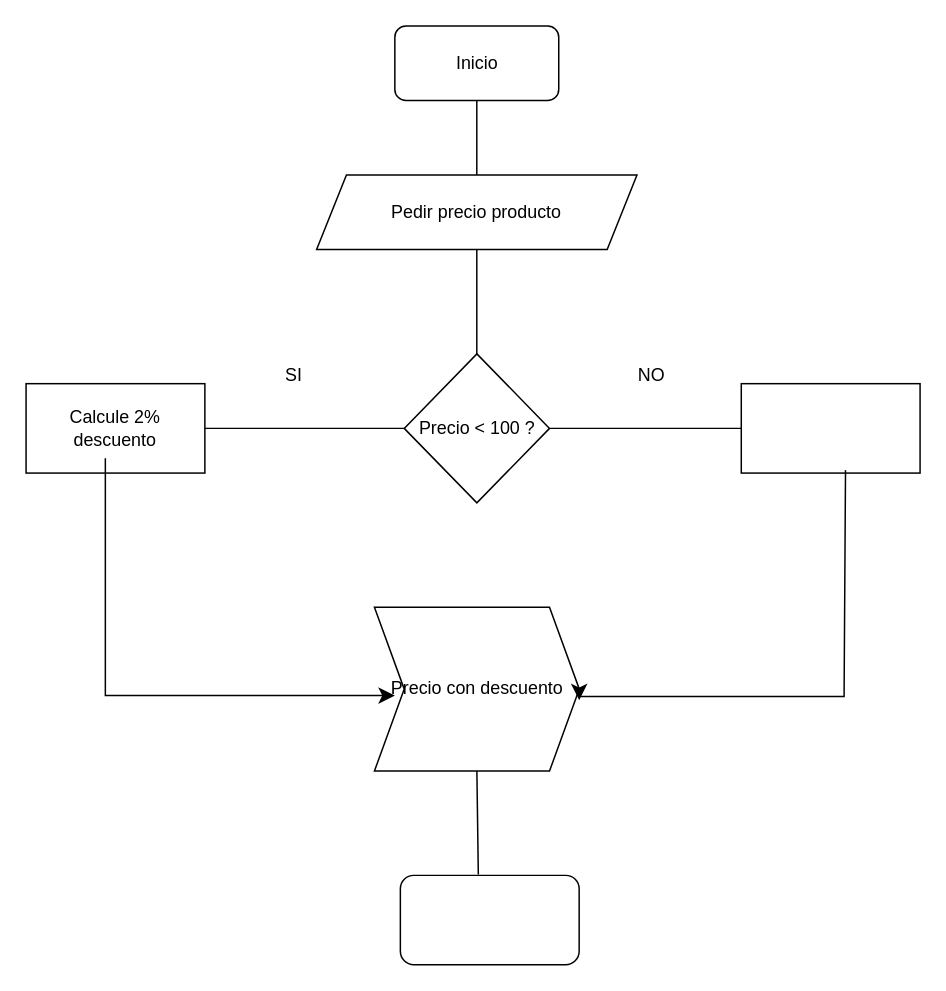
Image size: 946x991. Some labels were removed from this diagram. The centre of each missing label's shape, as x and y in pixels:
Calcule 10% descuento: the point at 830,427
Fin: the point at 489,919
